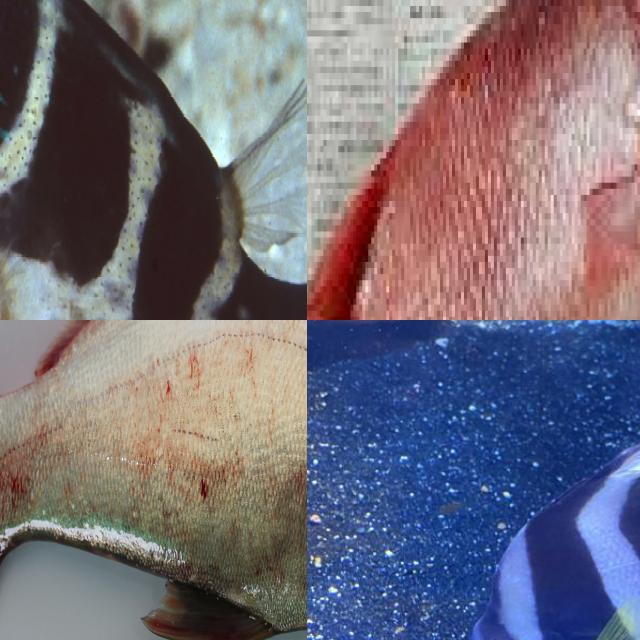fish: (307, 0, 640, 320), (0, 0, 307, 320), (0, 320, 307, 640), (447, 425, 640, 640)
